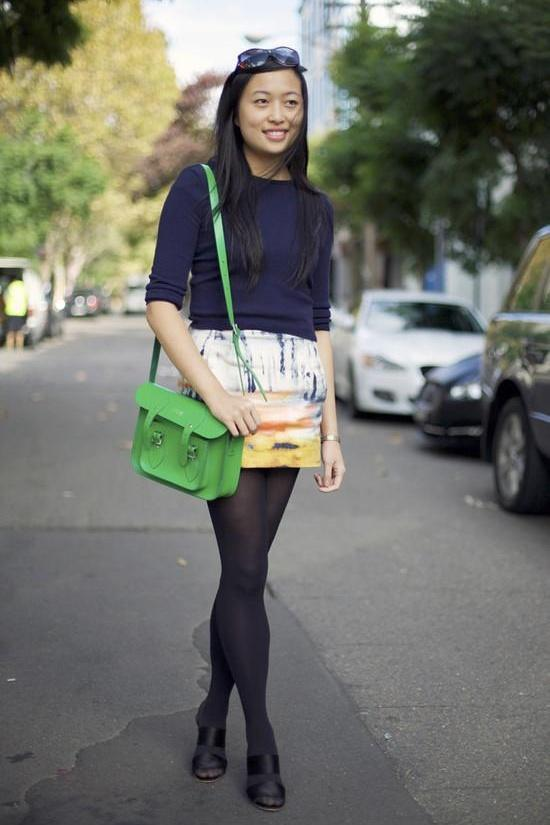Tshirt: (144, 152, 334, 344)
skirt: (172, 323, 326, 469)
